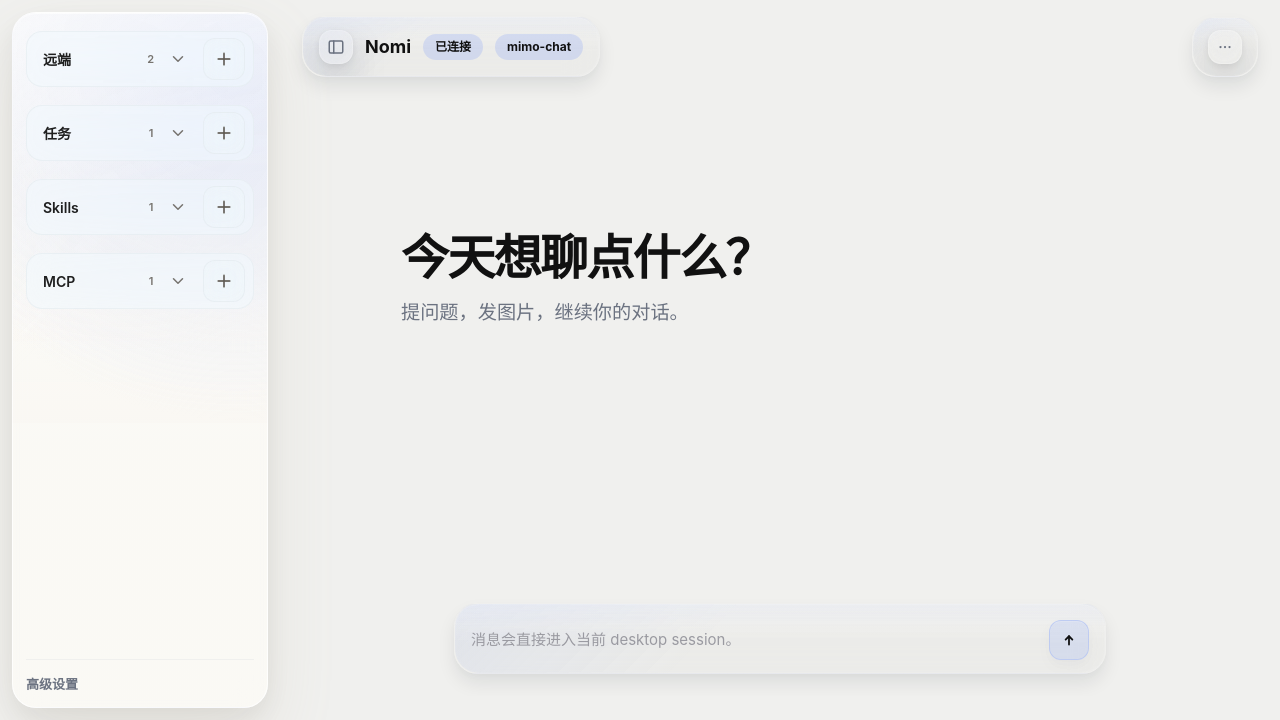
Test case: MainShell HTTP resource actions › does not show top notification for background remote messages
Click the button "远端 2". click: (114, 59)
box: x1=33 y1=38 x2=195 y2=80
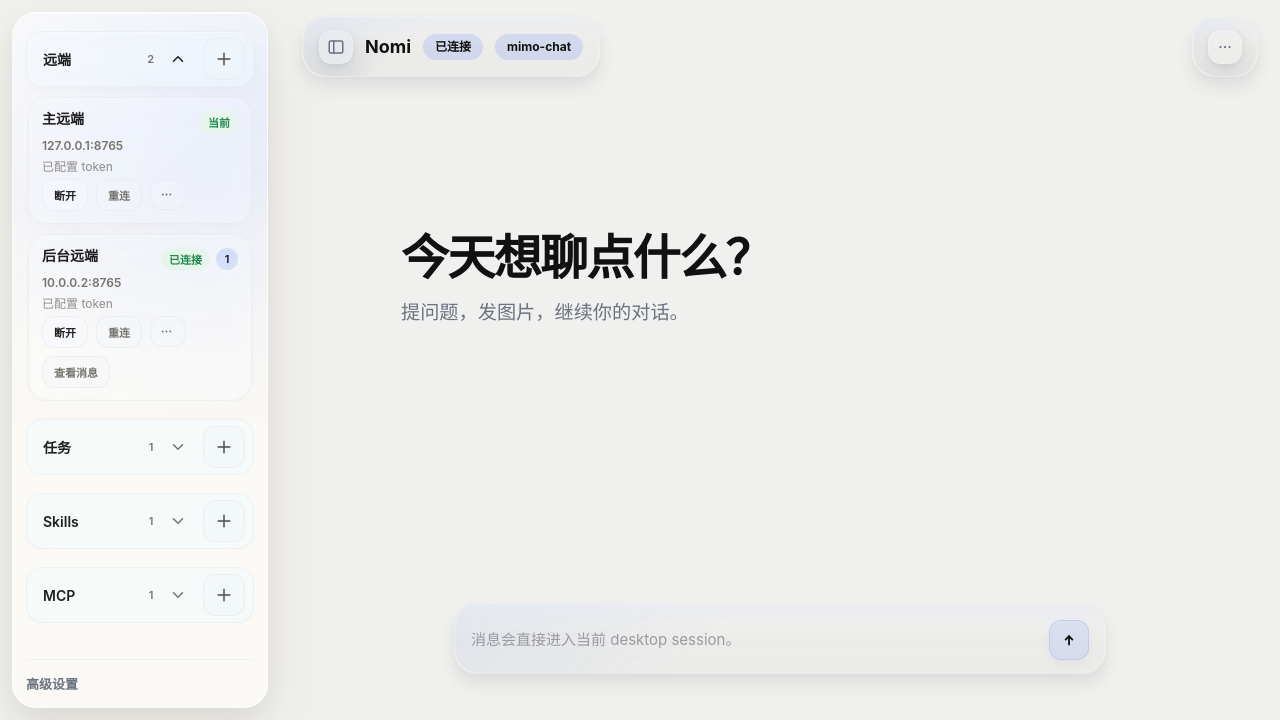
Expected: the button "后台远端 已连接 1 10.0.0.2:8765 已配置 token 断开 重连 查看消息" is shown, x1=28 y1=234 x2=252 y2=401
Expected: the 1st text "1" is shown, x1=216 y1=248 x2=238 y2=270
